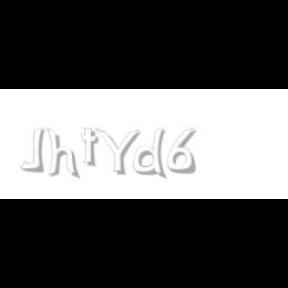6: (168, 128, 196, 176)
J: (20, 128, 44, 172)
Y: (94, 128, 140, 176)
d: (134, 128, 170, 180)
h: (46, 128, 82, 180)
t: (81, 128, 103, 168)
